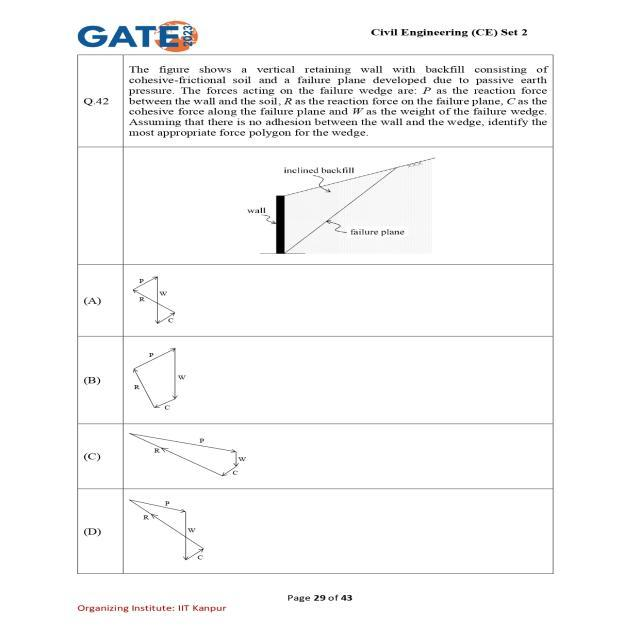Answer_Block: (71, 264, 559, 572)
Question_Answer_Block: (74, 56, 556, 574)
Question_Block: (71, 54, 550, 263)
Question_Paper_Area: (77, 56, 550, 576)
